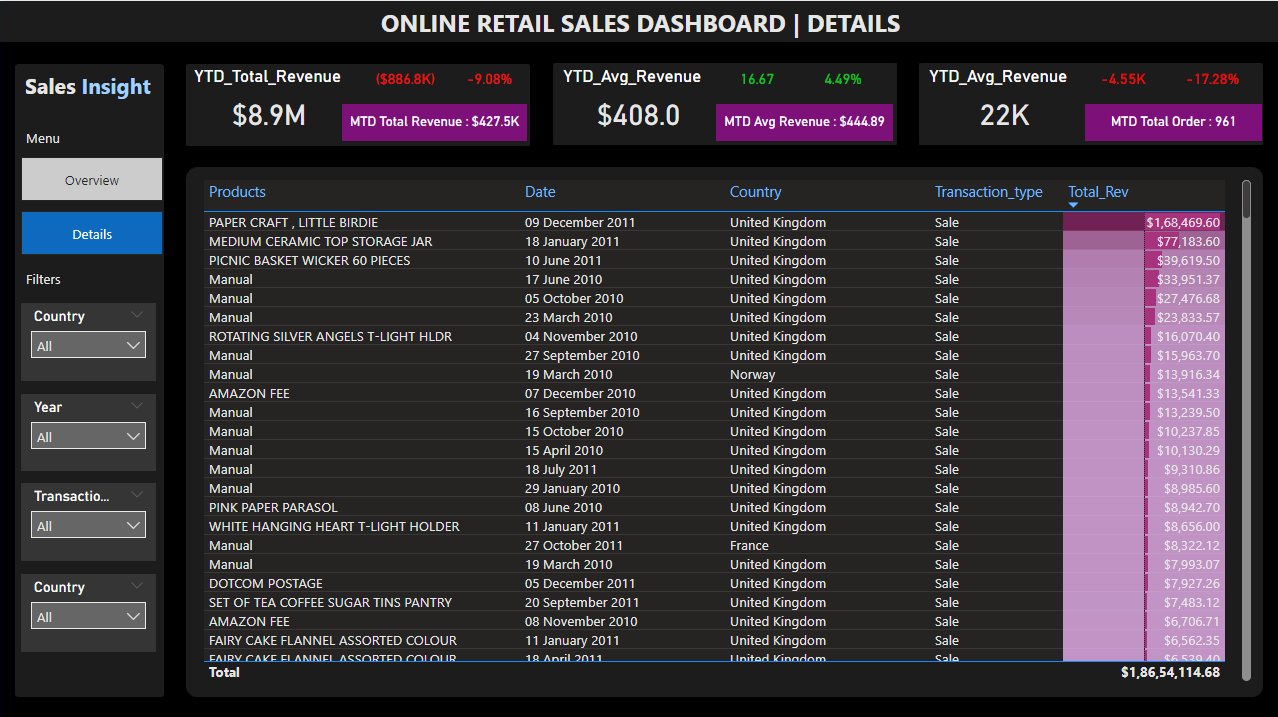

The page's visual inventory and layout, read from the dashboard file:
{"tool":"powerbi","page":{"name":"Details","canvas":[1280,720],"ordinal":1},"visuals":[{"type":"slicer","fields":{"Values":["Fact_Sales.Country"]},"box":[22.2,302.2,134.4,77.8],"z":0},{"type":"slicer","fields":{"Values":["Dim_Date.Year"]},"box":[22.2,393.3,134.4,76.7],"z":1000},{"type":"card","title":"YTD_Total_Revenue","fields":{"Values":["Fact_Sales.Total_Revenue_YTD"]},"box":[190,65,160,75],"z":2000},{"type":"card","title":"Total_Revenue_MTD","fields":{"Values":["Fact_Sales.MTD KPI"]},"box":[343,103,185,37],"z":3000},{"type":"card","title":"Total_Revenue_YTD","fields":{"Values":["Fact_Sales.Revenue_difference"]},"box":[368,65,76,26],"z":4000},{"type":"card","title":"Total_Revenue_YTD","fields":{"Values":["Fact_Sales.YoY Growth%"]},"box":[452,65,76,26],"z":5000},{"type":"card","title":"YTD_Avg_Revenue","fields":{"Values":["Fact_Sales.YTD_Avg_Revenue"]},"box":[559,65,161,75],"z":6000},{"type":"card","title":"Total_Revenue_YTD","fields":{"Values":["Fact_Sales.Avg_Diff_Revenue"]},"box":[720,65,76,26],"z":7000},{"type":"card","title":"Total_Revenue_YTD","fields":{"Values":["Fact_Sales.YoY_avg_Rev_Growth"]},"box":[806,65,76,26],"z":8000},{"type":"card","title":"Total_Revenue_MTD","fields":{"Values":["Fact_Sales.MTD_Avg_KPI"]},"box":[717,103,177,37],"z":9000},{"type":"card","title":"YTD_Avg_Revenue","fields":{"Values":["Fact_Sales.YTD_Total_Order"]},"box":[925,65,161,75],"z":10000},{"type":"card","title":"Total_Revenue_YTD","fields":{"Values":["Fact_Sales.Total_order_difference"]},"box":[1086,65,76,26],"z":11000},{"type":"card","title":"Total_Revenue_YTD","fields":{"Values":["Fact_Sales.YoY_Total_order_growth"]},"box":[1175,65,76,26],"z":12000},{"type":"card","title":"Total_Revenue_MTD","fields":{"Values":["Fact_Sales.MTD_Total_Order_KPI"]},"box":[1086,103,177,37],"z":13000},{"type":"textbox","box":[377,0,568,49],"z":19000},{"type":"slicer","fields":{"Values":["Fact_Sales.Transaction_type"]},"box":[22.2,482.2,134.4,77.8],"z":20000},{"type":"slicer","fields":{"Values":["Fact_Sales.Country"]},"box":[22.2,573.3,134.4,77.8],"z":21000},{"type":"textbox","box":[22.2,264.4,134.4,28.9],"z":22000},{"type":"tableEx","fields":{"Values":["Fact_Sales.Description","Fact_Sales.InvoiceDate","Fact_Sales.Country","Fact_Sales.Transaction_type","Fact_Sales.Total_Rev"]},"box":[198.6,174.3,1058.6,510.7],"z":22001},{"type":"textbox","box":[14,65,150,42],"z":22002},{"type":"textbox","box":[14,123,60,33],"z":22003},{"type":"pageNavigator","box":[22,156,142,98],"z":22004}]}

Visuals, with their boxes on the page's 1280x720 design canvas (x1, y1, x2, y2). These are canvas units, not pixel positions in the 1278x717 screenshot, which may show the page scaled, cropped or inside an application window:
slicer - Fact_Sales.Country: locate(22, 302, 157, 380)
slicer - Dim_Date.Year: locate(22, 393, 157, 470)
"YTD_Total_Revenue" card: locate(190, 65, 350, 140)
"Total_Revenue_MTD" card: locate(343, 103, 528, 140)
"Total_Revenue_YTD" card: locate(368, 65, 444, 91)
"Total_Revenue_YTD" card: locate(452, 65, 528, 91)
"YTD_Avg_Revenue" card: locate(559, 65, 720, 140)
"Total_Revenue_YTD" card: locate(720, 65, 796, 91)
"Total_Revenue_YTD" card: locate(806, 65, 882, 91)
"Total_Revenue_MTD" card: locate(717, 103, 894, 140)
"YTD_Avg_Revenue" card: locate(925, 65, 1086, 140)
"Total_Revenue_YTD" card: locate(1086, 65, 1162, 91)
"Total_Revenue_YTD" card: locate(1175, 65, 1251, 91)
"Total_Revenue_MTD" card: locate(1086, 103, 1263, 140)
textbox: locate(377, 0, 945, 49)
slicer - Fact_Sales.Transaction_type: locate(22, 482, 157, 560)
slicer - Fact_Sales.Country: locate(22, 573, 157, 651)
textbox: locate(22, 264, 157, 293)
tableEx - Fact_Sales.Description x Fact_Sales.InvoiceDate: locate(199, 174, 1257, 685)
textbox: locate(14, 65, 164, 107)
textbox: locate(14, 123, 74, 156)
pageNavigator: locate(22, 156, 164, 254)
